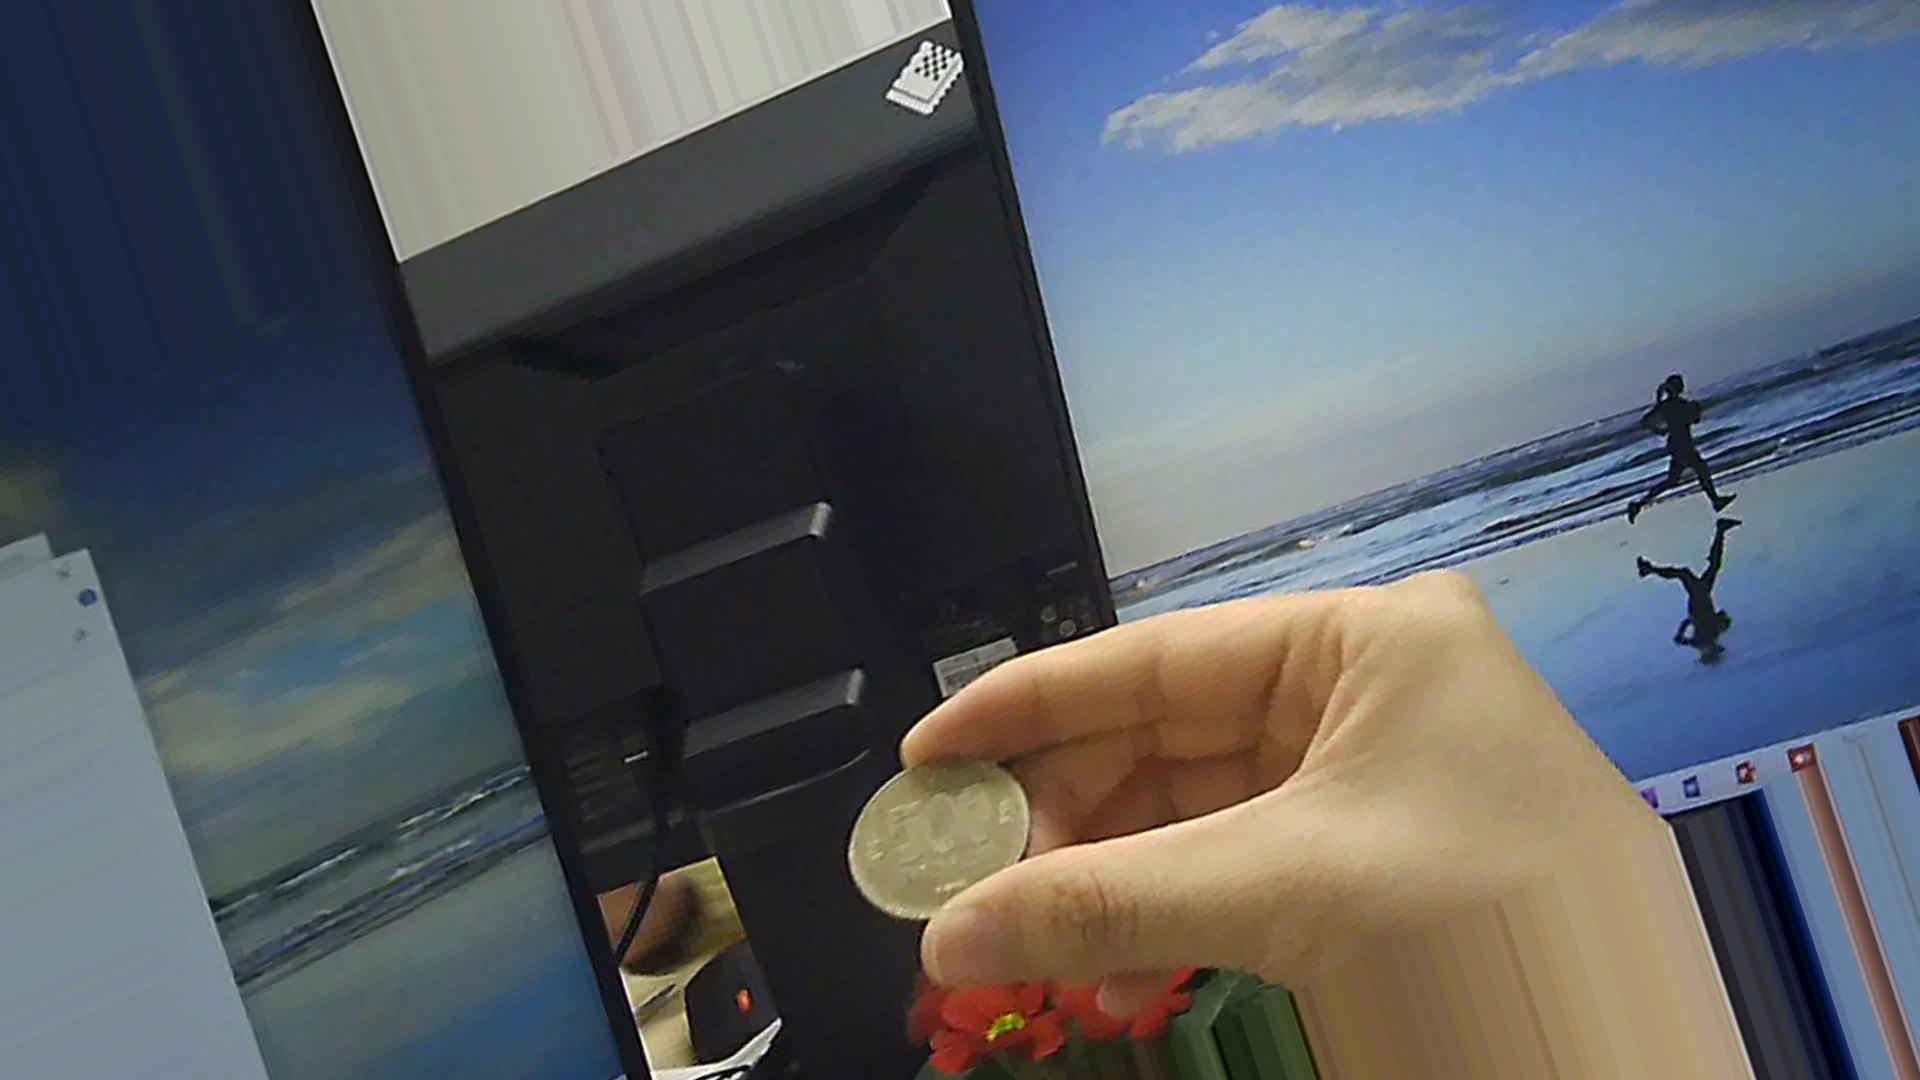500 Yen: (847, 752, 1044, 920)
